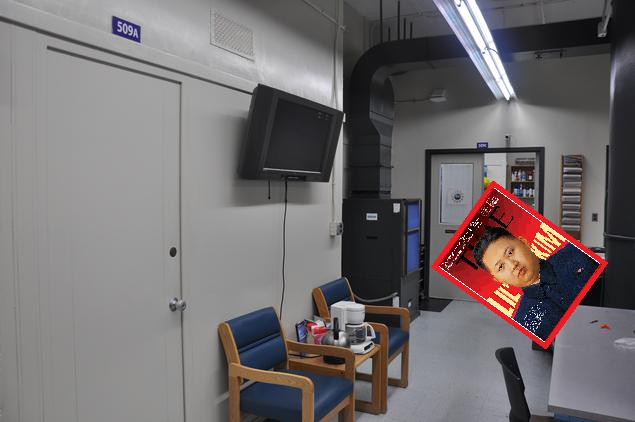times: (427, 179, 607, 352)
